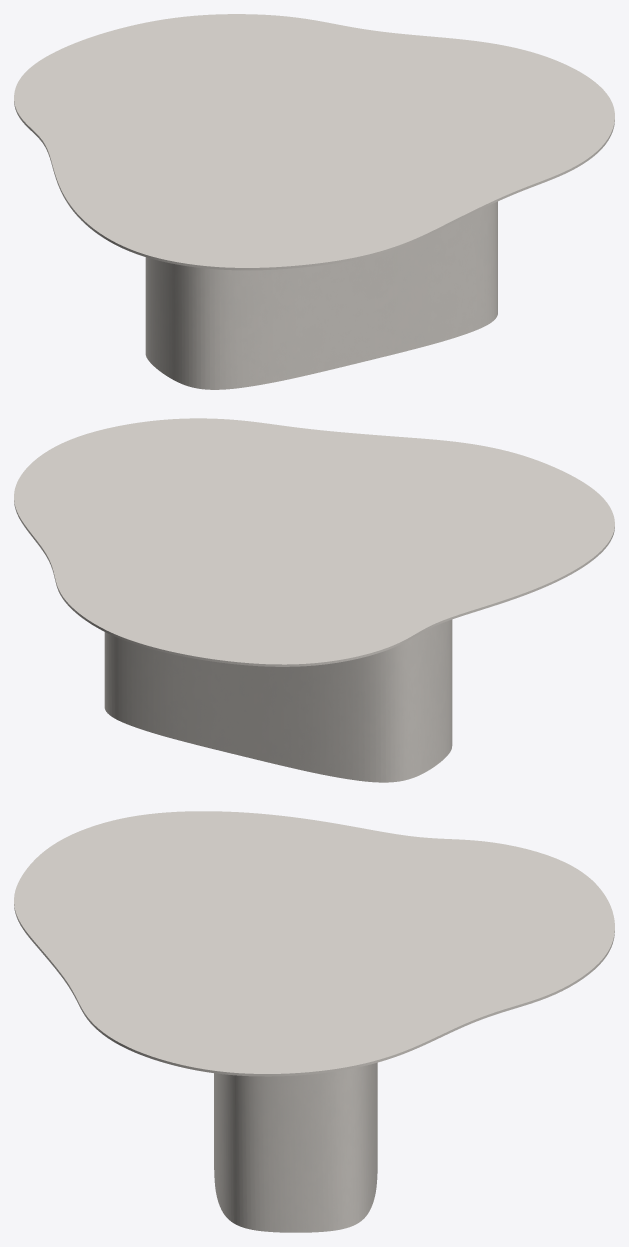
Rendered from pearlwhite_topone_facet_fixed.glb.
3 views of the same model, one above another, from view 1: azimuth 30°, elevation 25°; view 2: azimuth 150°, elevation 25°; view 3: azimuth 270°, elevation 25° (orthographic). The views are drawn at different scales.
Visible parts, largest first — view 1: facet_topone, fixed; view 2: facet_topone, fixed; view 3: facet_topone, fixed.
Boxes of the visible parts, x1,y1,x2,y2 form: facet_topone: (14, 14, 614, 270); fixed: (145, 201, 497, 389); facet_topone: (14, 418, 614, 666); fixed: (104, 619, 452, 782); facet_topone: (14, 811, 614, 1076); fixed: (214, 1062, 377, 1232).
Bounding box in the file's own units: 6.83 × 2.5 × 6.6.
Materials: 1 (1 with a texture image).
